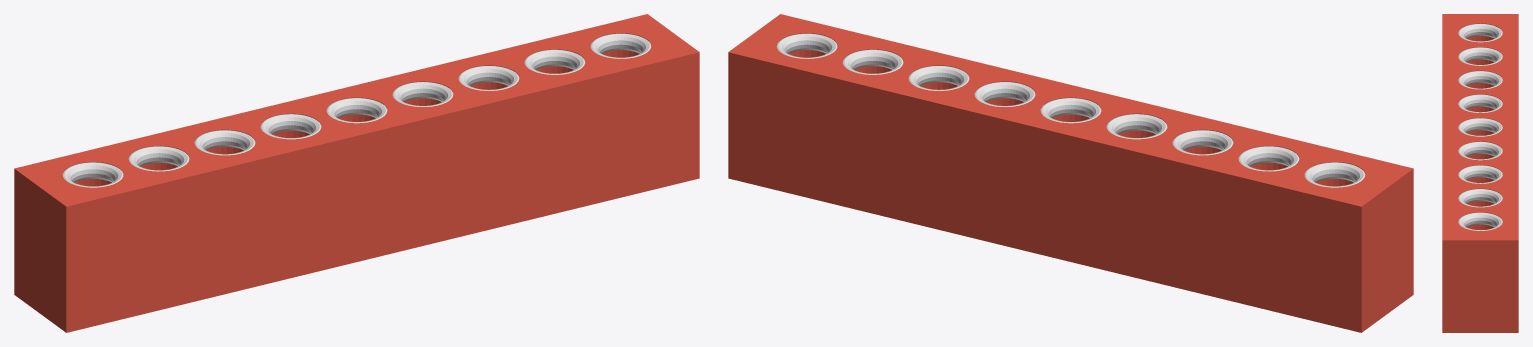
3 renders of one model, left to right at view 1: azimuth 30°, elevation 25°; view 2: azimuth 150°, elevation 25°; view 3: azimuth 270°, elevation 25°, orthographic. The views are drawn at different scales.
Parts seen in each view (by area): view 1: 立方体.005, 环体.006, 0.07 m.001, 0.07 m, 环体.002, 环体.005, 环体.003, 环体.001, 环体, 环体.004; view 2: 立方体.005, 环体.006, 0.07 m.001, 0.07 m, 环体.002, 环体.005, 环体.003, 环体.001, 环体, 环体.004; view 3: 立方体.005, 环体, 环体.001, 环体.002, 环体.005, 环体.006, 环体.003, 0.07 m, 环体.004, 0.07 m.001.
Boxes of the visible parts, x1,y1,x2,y2 form: 立方体.005: [14, 14, 699, 332]; 环体.006: [524, 49, 585, 74]; 0.07 m.001: [62, 162, 123, 187]; 0.07 m: [590, 33, 651, 58]; 环体.002: [458, 66, 519, 90]; 环体.005: [128, 146, 189, 171]; 环体.003: [260, 114, 321, 139]; 环体.001: [194, 130, 255, 155]; 环体: [326, 98, 387, 123]; 环体.004: [392, 82, 453, 106]; 立方体.005: [728, 14, 1413, 332]; 环体.006: [842, 49, 903, 74]; 0.07 m.001: [1304, 162, 1365, 187]; 0.07 m: [776, 33, 837, 58]; 环体.002: [908, 66, 969, 90]; 环体.005: [1238, 146, 1299, 171]; 环体.003: [1106, 114, 1167, 139]; 环体.001: [1172, 130, 1233, 155]; 环体: [1040, 98, 1101, 123]; 环体.004: [974, 82, 1035, 106]; 立方体.005: [1442, 14, 1518, 332]; 环体: [1458, 118, 1502, 136]; 环体.001: [1458, 71, 1502, 89]; 环体.002: [1458, 165, 1502, 183]; 环体.005: [1458, 47, 1502, 65]; 环体.006: [1458, 189, 1502, 207]; 环体.003: [1458, 94, 1502, 112]; 0.07 m: [1458, 212, 1502, 230]; 环体.004: [1458, 141, 1502, 160]; 0.07 m.001: [1458, 23, 1502, 42].
Size of the model in its own units: 0.84 by 0.16 by 0.12.
